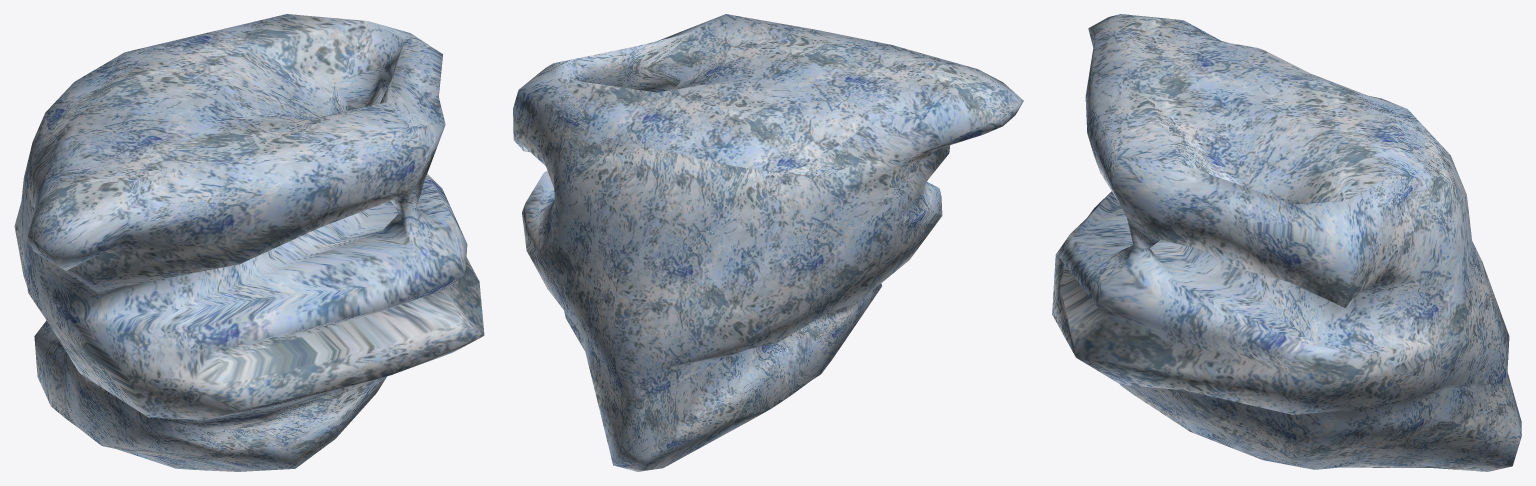
The model's file is planetoid_ice_s01_l3.fbx.
The picture shows the model from 3 angles, left to right: view 1: azimuth 30°, elevation 25°; view 2: azimuth 150°, elevation 25°; view 3: azimuth 270°, elevation 25°; orthographic projection. The views are drawn at different scales.
Visible parts, largest first — view 1: mesh_node; view 2: mesh_node; view 3: mesh_node.
Boxes of the visible parts, box(x1,y1,x2,y2) form: mesh_node: box(14, 14, 484, 471); mesh_node: box(513, 14, 1023, 471); mesh_node: box(1052, 14, 1521, 471).
Bounding box in the file's own units: 580 × 446 × 520.
